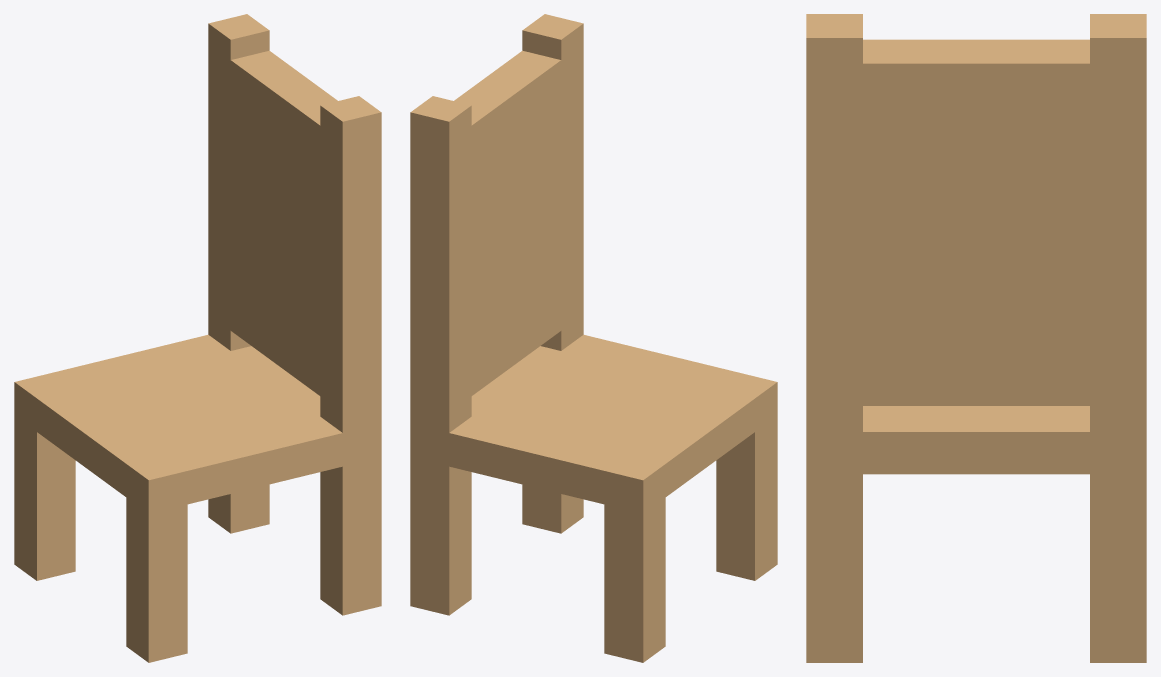
The model's file is chair_01_mockup_01.fbx.
3 views of the same model, side by side, from view 1: azimuth 30°, elevation 25°; view 2: azimuth 150°, elevation 25°; view 3: azimuth 270°, elevation 25° (orthographic). The views are drawn at different scales.
Parts seen in each view (by area): view 1: Plane; view 2: Plane; view 3: Plane.
Boxes of the visible parts, box(x1,y1,x2,y2) form: Plane: box(14, 14, 381, 662); Plane: box(410, 14, 777, 662); Plane: box(806, 14, 1146, 662).
Bounding box in the file's own units: 0.4 × 0.4 × 0.8112.
